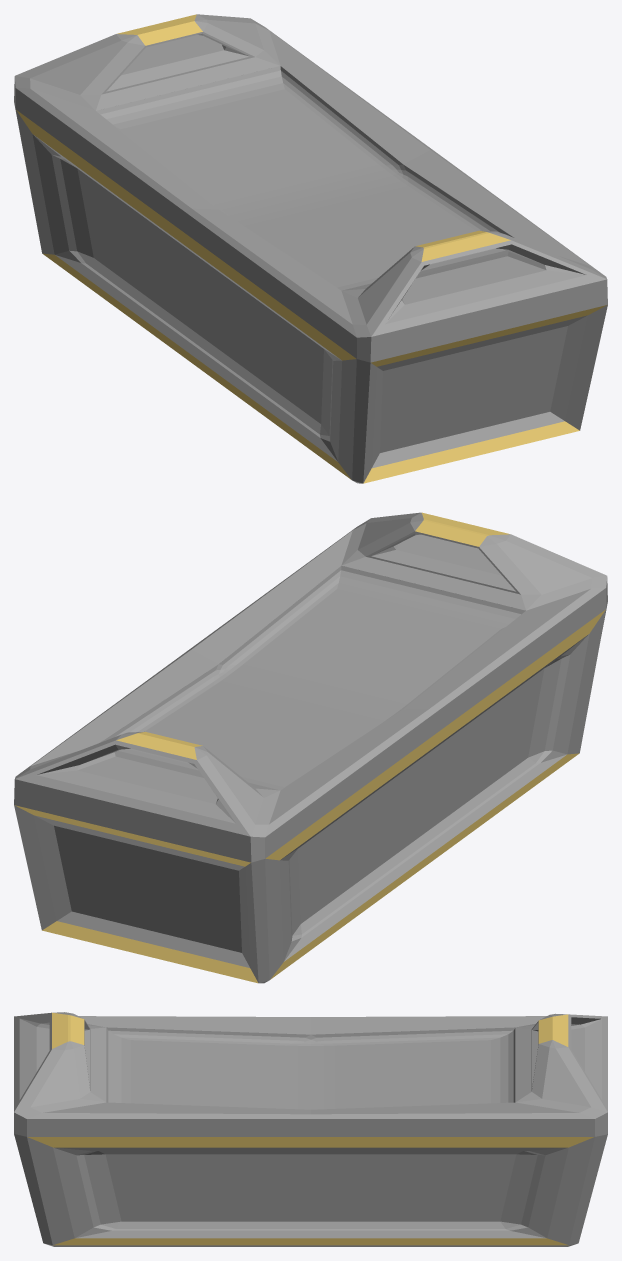
The model's file is spaceBENCH.fbx.
3 views of the same model, one above another, from view 1: azimuth 30°, elevation 25°; view 2: azimuth 150°, elevation 25°; view 3: azimuth 270°, elevation 25° (orthographic). The views are drawn at different scales.
Parts seen in each view (by area): view 1: bench; view 2: bench; view 3: bench.
Part boxes in pixels (<box>): bench: <box>14,14,607,483</box>; bench: <box>14,512,607,983</box>; bench: <box>14,1012,607,1246</box>.
Bounding box in the file's own units: 220 × 177 × 544.
